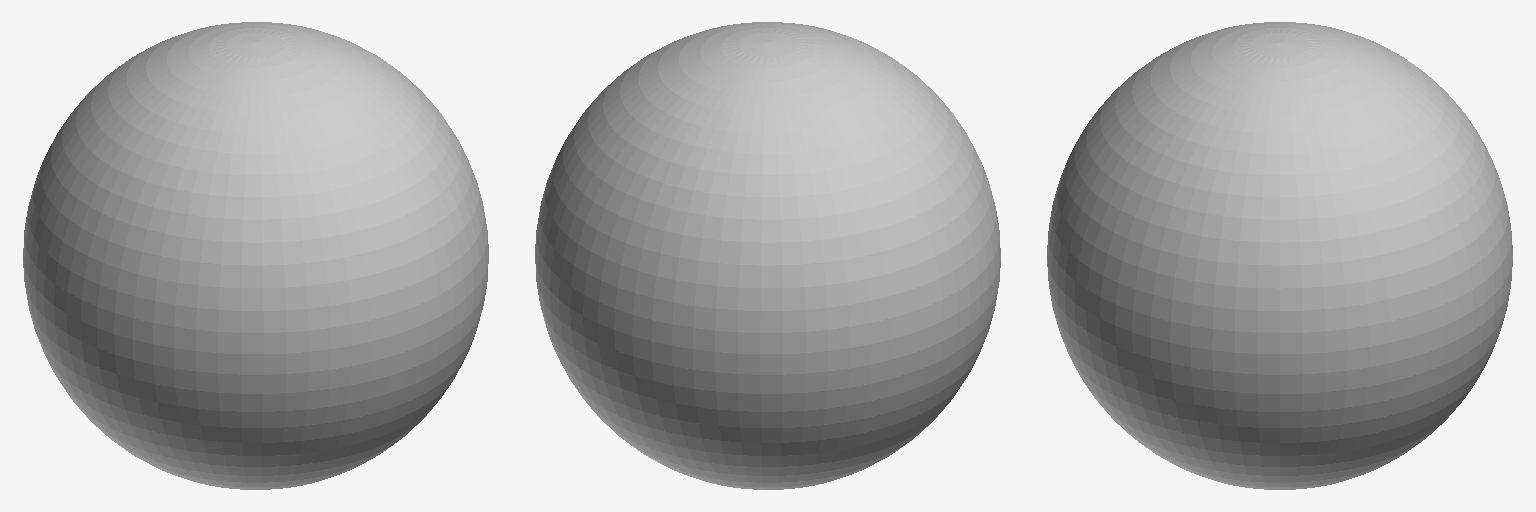
File: hemisphere.obj
The picture shows the model from 3 angles: view 1: azimuth 30°, elevation 25°; view 2: azimuth 150°, elevation 25°; view 3: azimuth 270°, elevation 25°; orthographic projection.
Visible parts, largest first — view 1: Sphere; view 2: Sphere; view 3: Sphere.
Boxes of the visible parts, <box> form: Sphere: <box>23,22,488,489</box>; Sphere: <box>535,22,1000,489</box>; Sphere: <box>1047,22,1512,489</box>.
Bounding box in the file's own units: 1.97 × 2 × 1.97.